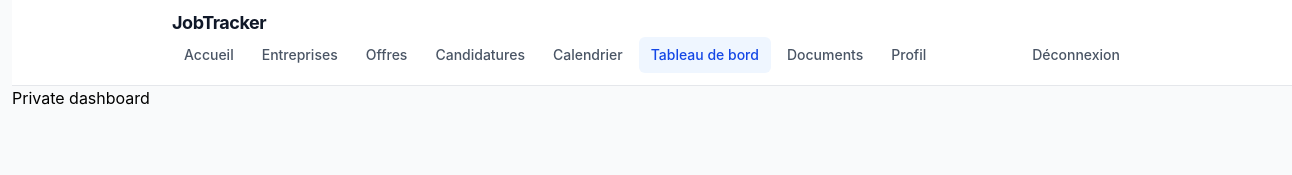
AppLayout logout › keeps the authenticated state after a logout network failure
Check: the text "Private dashboard" is shown, box [12,88,150,108]
Step 1. Click the button "Déconnexion" → click(1076, 55), box [1020,37,1132,73]
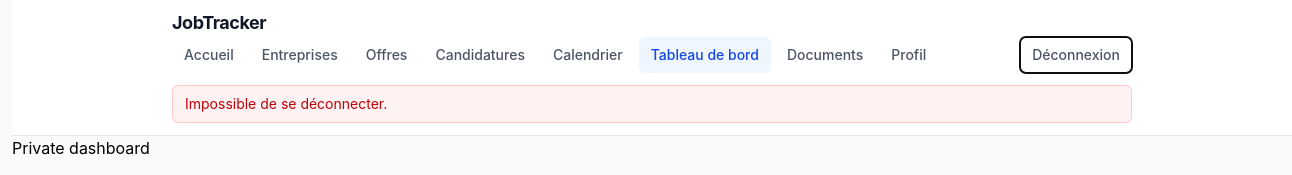
Check: the text "Private dashboard" is shown, box [12,138,150,158]
Check: the message reads "Impossible de se déconnecter.", box [185,95,387,112]
